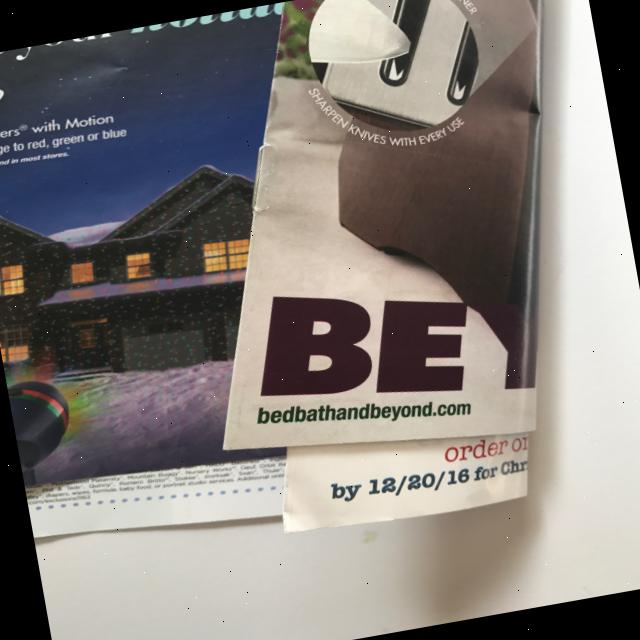paper: (0, 0, 628, 583)
